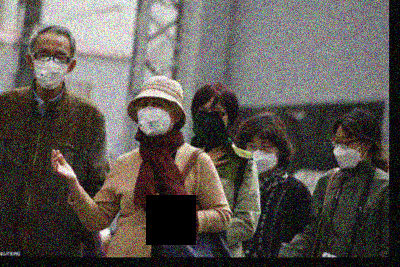with_mask: (30, 46, 71, 89), (138, 98, 175, 136), (244, 136, 279, 174), (192, 104, 230, 139), (331, 133, 367, 168)
